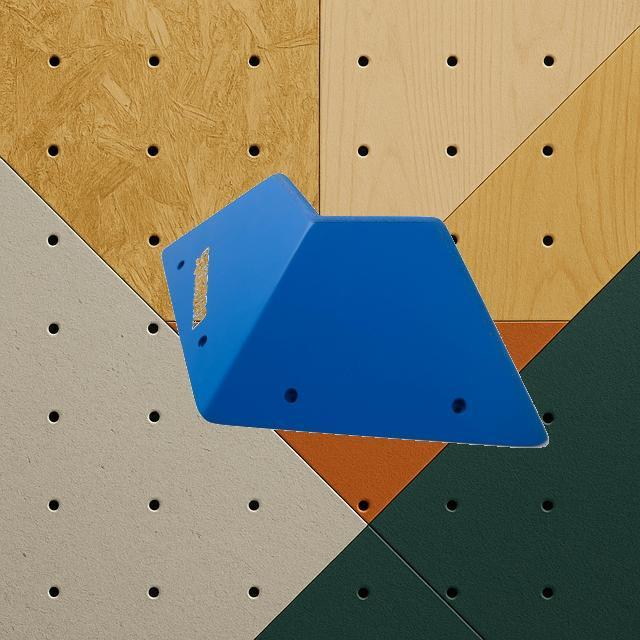Volume: (160, 170, 548, 448)
